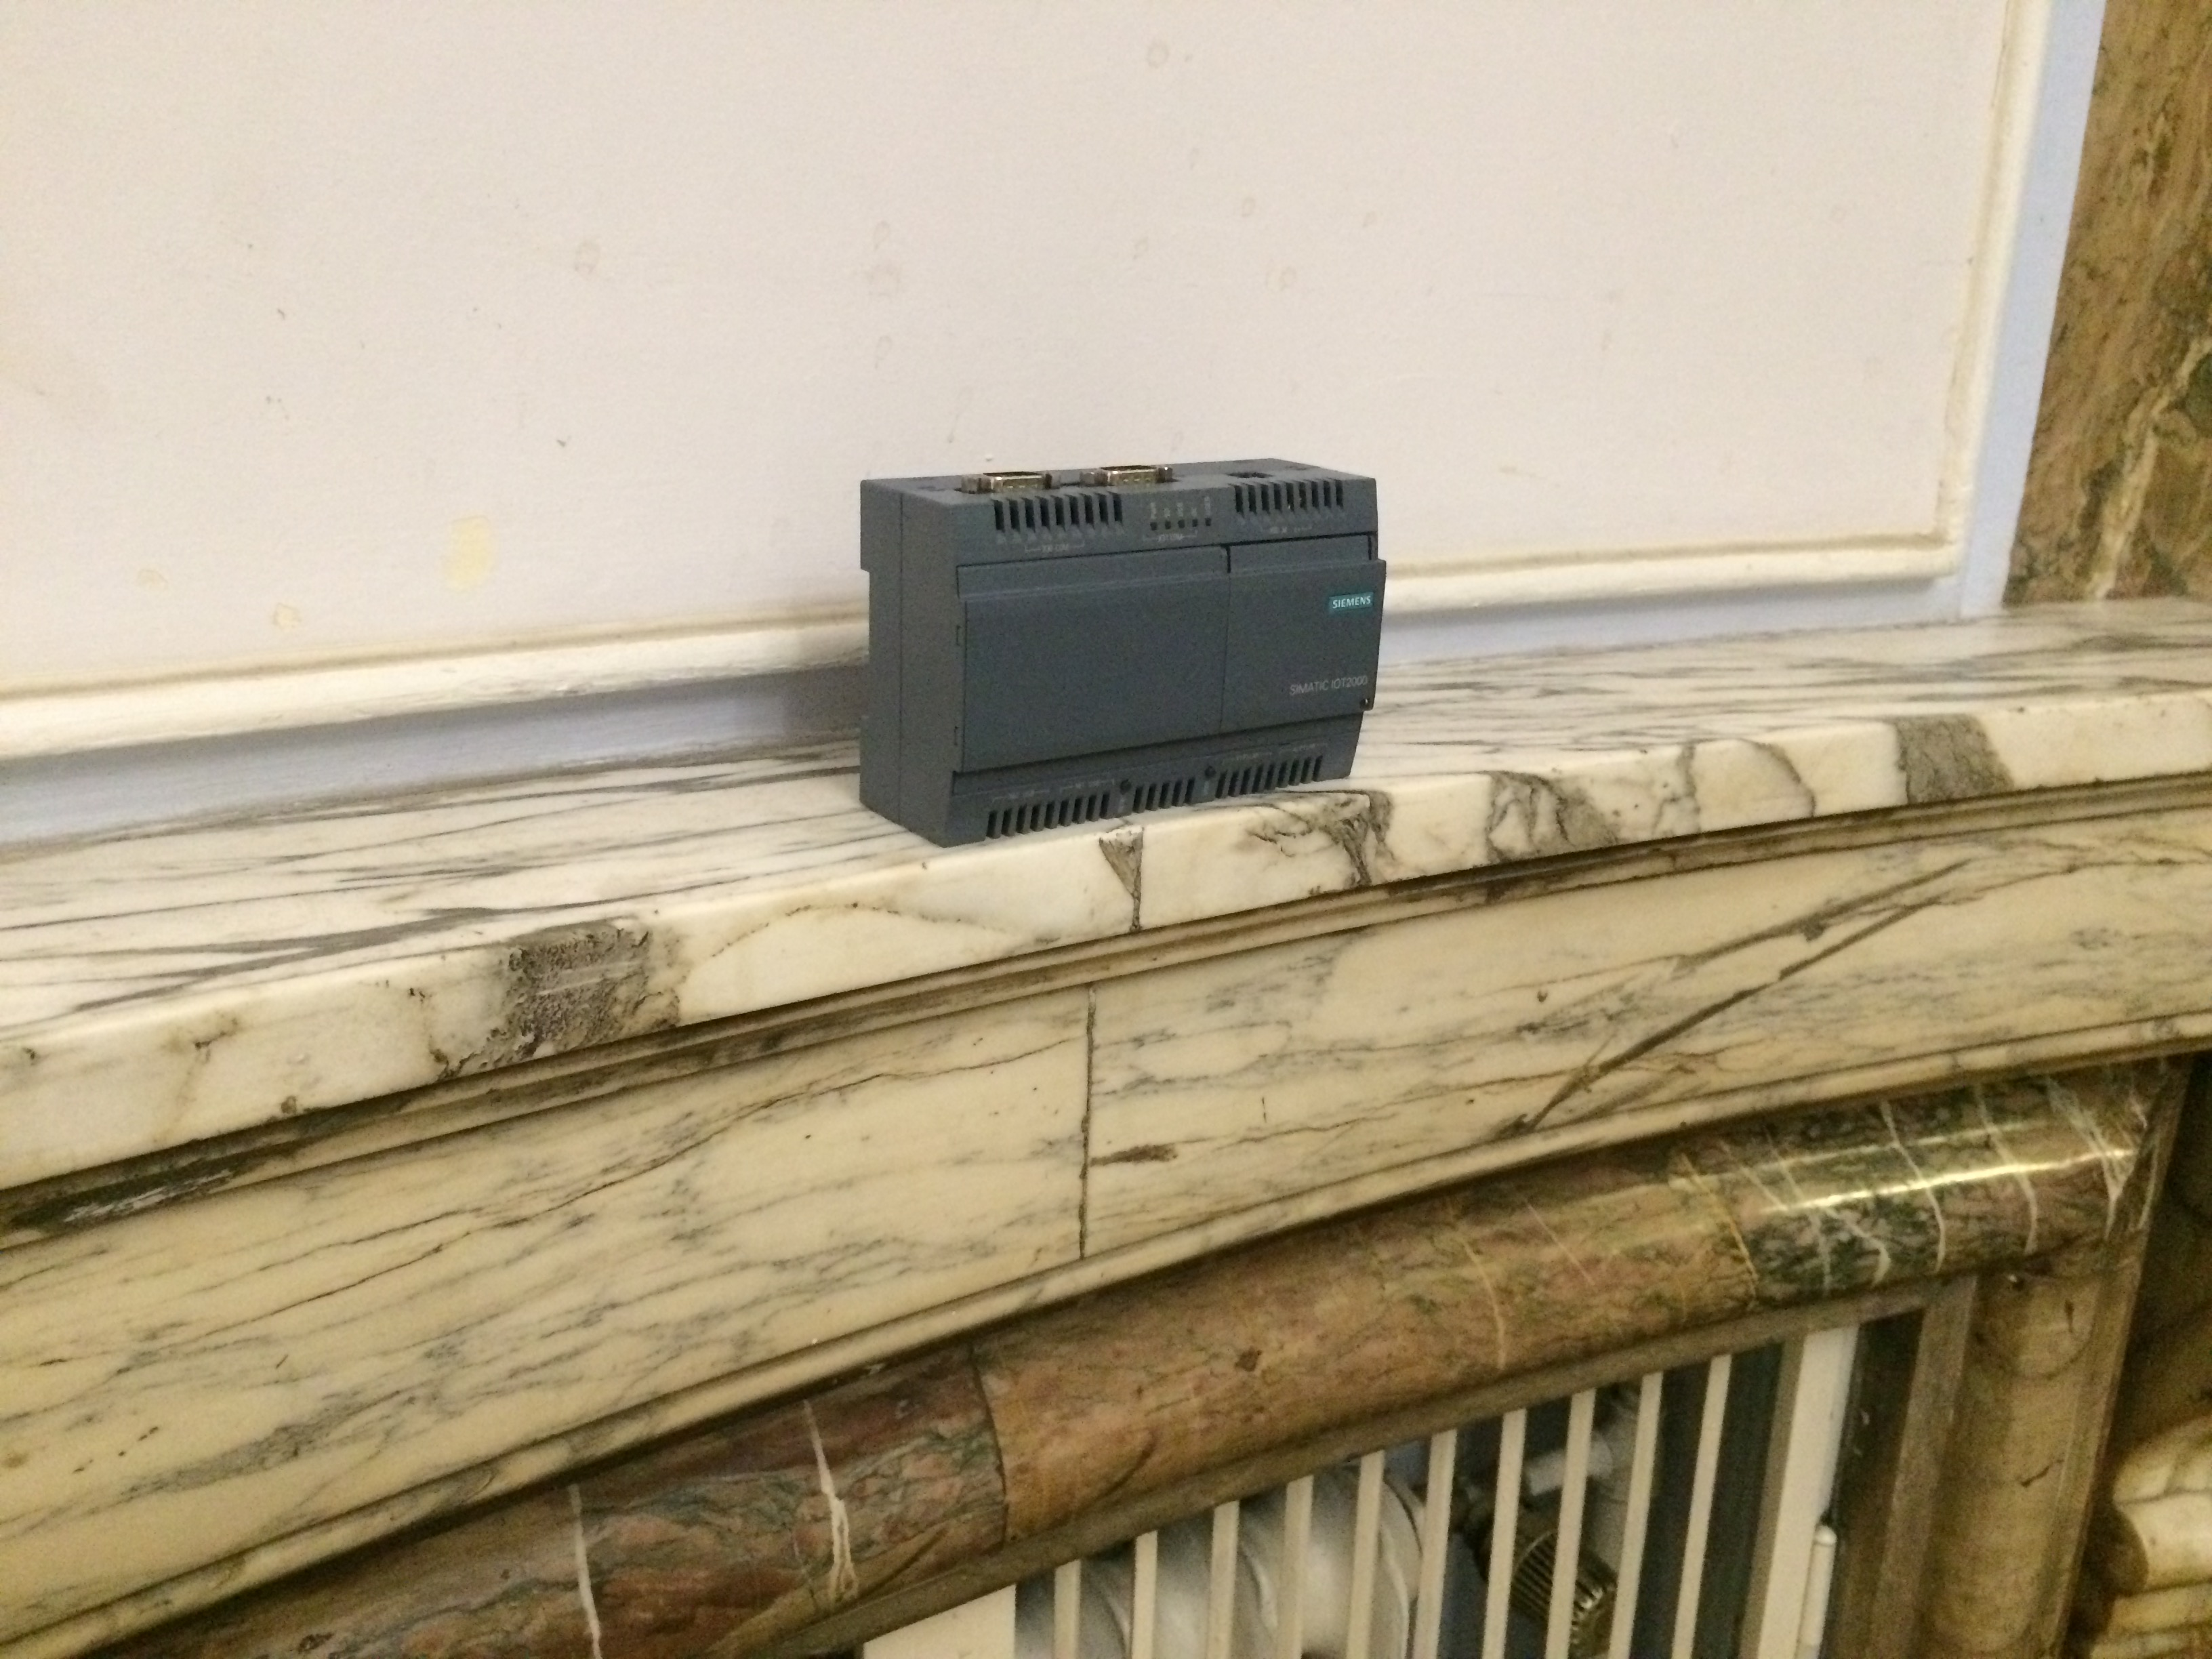iot2000: (855, 455, 1393, 854)
